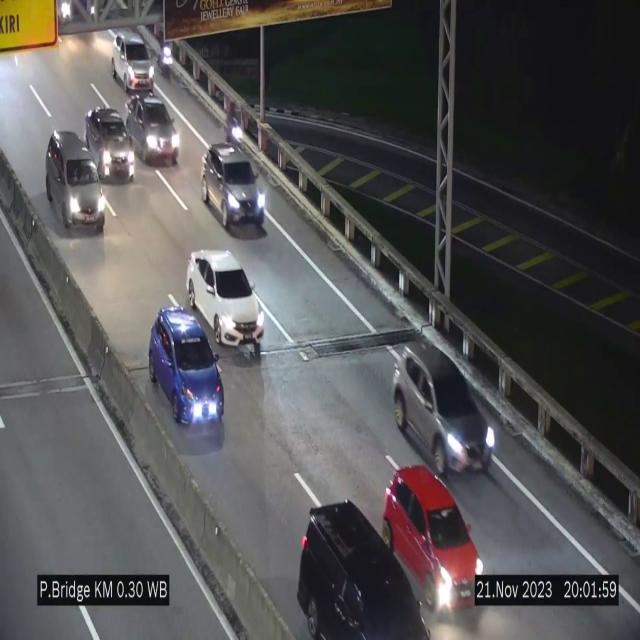Car: (290, 483, 433, 640), (376, 462, 485, 610), (393, 340, 499, 482), (149, 307, 225, 425), (186, 250, 264, 350), (43, 126, 108, 243), (202, 141, 266, 231), (122, 89, 188, 175), (84, 105, 136, 183), (112, 30, 154, 94)
Motorcycle: (154, 21, 180, 91), (226, 98, 247, 160)
Truck: (112, 29, 154, 93)
